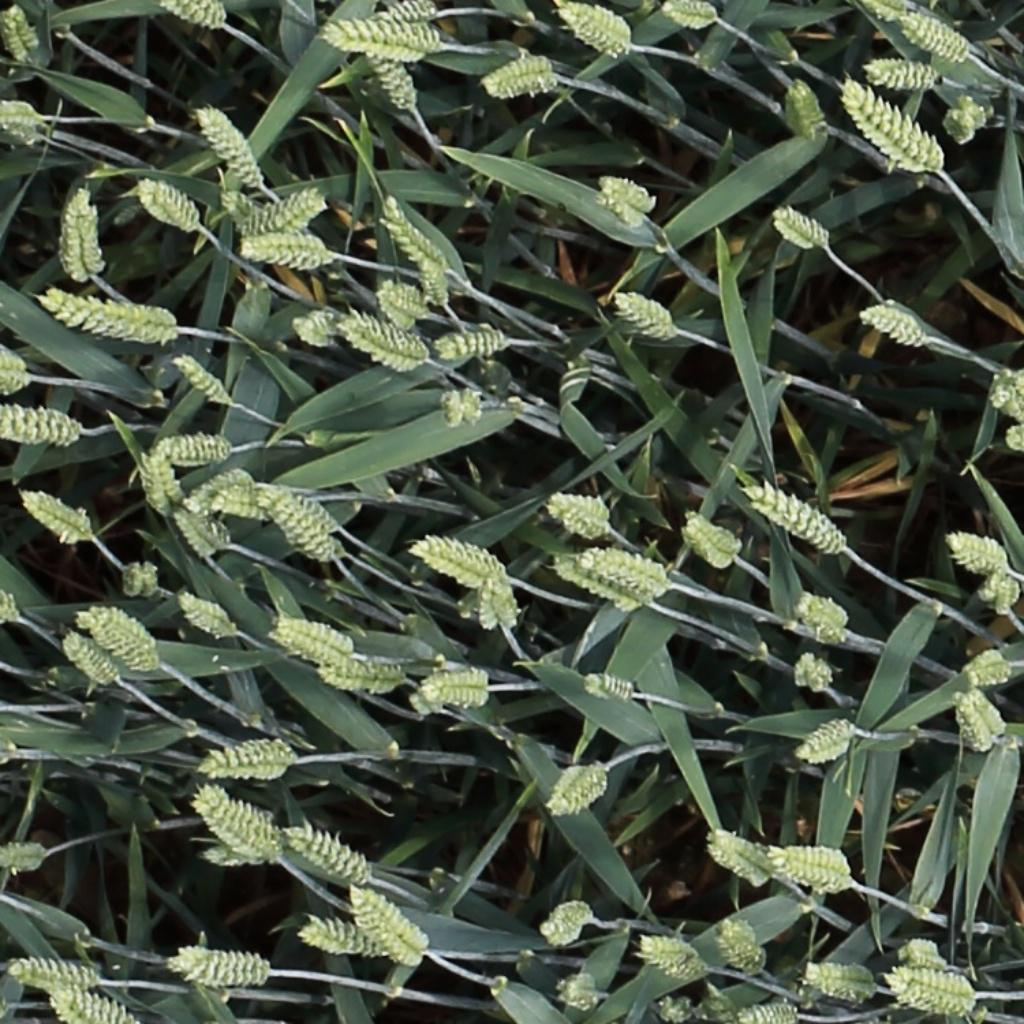0-0: (27, 287, 177, 347), (843, 88, 951, 169), (192, 722, 301, 792), (349, 884, 438, 969), (744, 478, 846, 552), (262, 602, 361, 671), (188, 784, 283, 854), (193, 99, 267, 188), (547, 551, 664, 607), (79, 600, 167, 674), (408, 531, 510, 593), (315, 631, 409, 698), (160, 938, 274, 992), (761, 836, 854, 900), (545, 1, 638, 64), (379, 192, 451, 271), (789, 949, 885, 1008), (337, 310, 428, 372), (875, 959, 974, 1015), (49, 185, 102, 287), (581, 535, 677, 590), (704, 825, 776, 898), (2, 949, 103, 1001), (213, 489, 341, 530), (327, 12, 450, 54), (0, 401, 101, 452), (283, 906, 389, 954), (949, 688, 1019, 758), (476, 48, 566, 102), (287, 829, 375, 884), (19, 490, 99, 549), (938, 517, 1015, 578), (406, 663, 489, 718), (542, 483, 622, 540), (230, 188, 324, 236), (271, 497, 339, 561), (233, 228, 334, 271), (856, 51, 951, 94), (363, 42, 420, 113), (680, 513, 747, 573), (599, 174, 667, 233), (1, 95, 68, 154), (137, 176, 205, 233), (433, 314, 511, 363), (152, 431, 242, 473), (628, 927, 703, 977), (574, 662, 645, 712), (539, 895, 600, 953), (857, 298, 931, 345), (900, 19, 969, 69), (545, 967, 612, 1018), (439, 382, 500, 437), (793, 719, 855, 773), (61, 632, 120, 688), (943, 91, 999, 149), (173, 352, 233, 406), (961, 568, 1022, 621), (793, 592, 855, 644), (787, 73, 831, 146), (288, 301, 345, 356), (170, 503, 223, 562), (476, 564, 521, 632), (370, 273, 436, 318), (187, 468, 256, 510), (551, 768, 610, 817), (139, 447, 178, 520), (656, 0, 728, 39), (50, 988, 131, 1022), (963, 641, 1014, 695), (177, 593, 237, 638), (614, 292, 677, 334), (147, 446, 187, 512), (415, 248, 456, 312), (1, 839, 66, 879), (718, 924, 770, 972), (158, 0, 226, 36), (774, 206, 832, 247), (884, 936, 963, 966), (0, 2, 35, 68), (789, 649, 834, 697), (646, 987, 703, 1022), (0, 344, 38, 396), (989, 366, 1024, 419), (110, 560, 160, 595), (382, 1, 427, 37), (740, 1004, 802, 1024), (857, 0, 920, 19), (1, 582, 17, 636)
